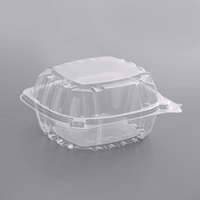PlasticBox: (18, 55, 185, 152)
